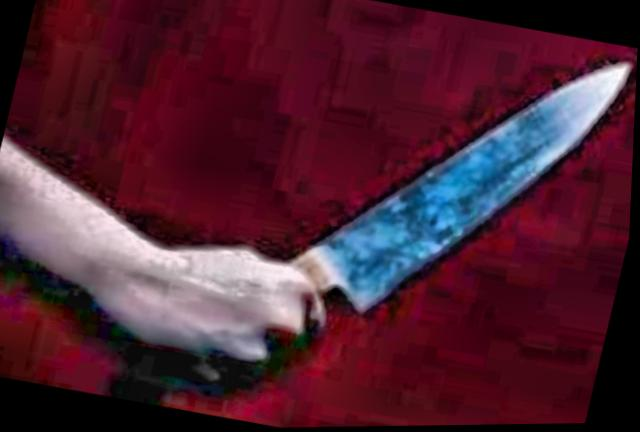knife: (235, 0, 638, 400)
